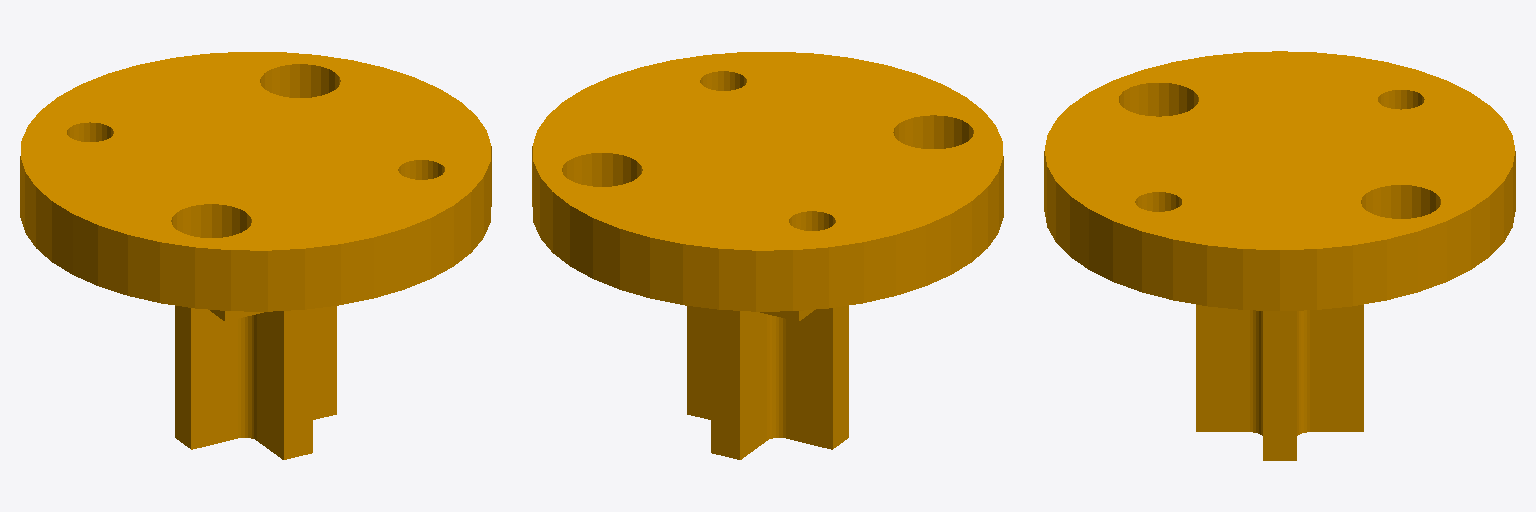
robot.urdf — industreal_cross_peg:
<?xml version="1.0"?>
<robot name="industreal_cross_peg">
    <link name="industreal_cross_peg">
        <visual>
            <geometry>
                <mesh filename="../mesh/industreal_pegs/industreal_cross_peg.obj"/>
            </geometry>
        </visual>
        <collision>
            <geometry>
                <mesh filename="../mesh/industreal_pegs/industreal_cross_peg.obj"/>
            </geometry>
            <sdf resolution="256"/>
        </collision>
    </link>
</robot>

--- What the picture shows (computed from the rendered views, not written in the file) ---
Views: 3 orthographic renders of the robot side by side, from view 1: azimuth 30°, elevation 25°; view 2: azimuth 150°, elevation 25°; view 3: azimuth 270°, elevation 25°.
Robot: industreal_cross_peg — 1 links, 0 joints (none); root link industreal_cross_peg; default pose: every joint at zero.
Links seen in each view (by area): view 1: industreal_cross_peg; view 2: industreal_cross_peg; view 3: industreal_cross_peg.
Boxes of the visible links, x1,y1,x2,y2 form: industreal_cross_peg: (20, 52, 491, 459); industreal_cross_peg: (532, 52, 1003, 459); industreal_cross_peg: (1044, 51, 1515, 460).
Size in the robot's own frame: 0.07 by 0.07 by 0.045 metres.
Meshes: 1 distinct files referenced, 1 mesh visuals loaded (1 OBJ).